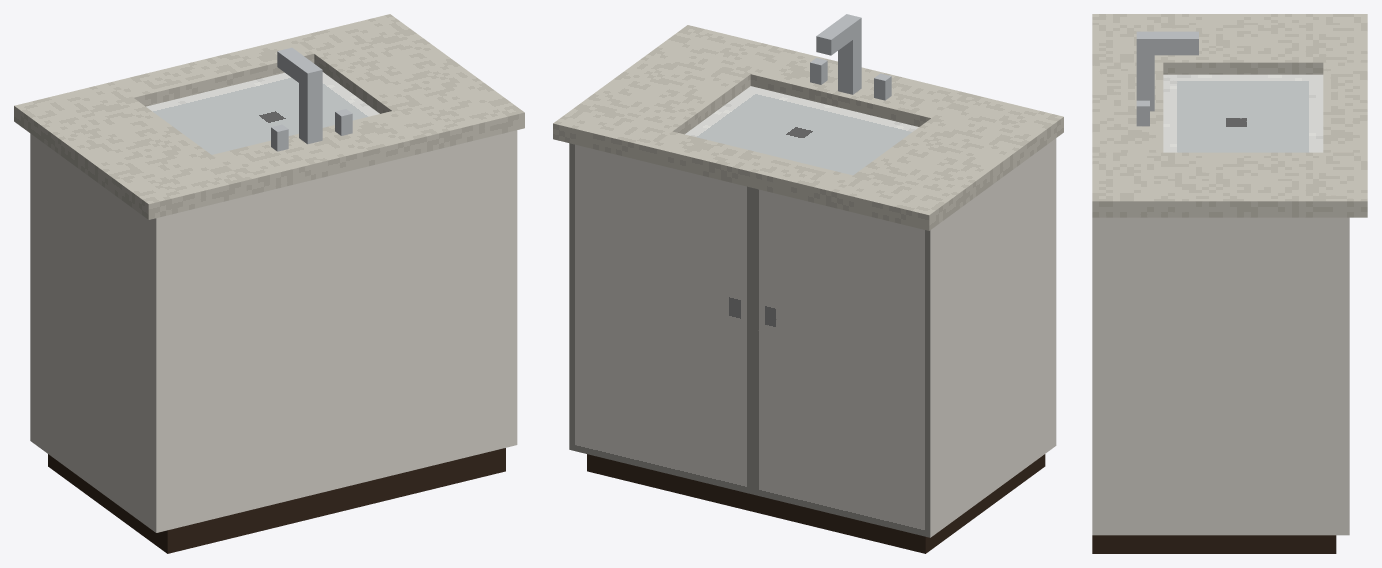
File: f_sink.glb
3 views of the same model, side by side, from view 1: azimuth 30°, elevation 25°; view 2: azimuth 150°, elevation 25°; view 3: azimuth 270°, elevation 25° (orthographic). The views are drawn at different scales.
Parts seen in each view (by area): view 1: block_cabinet, block_top-l, block_top-r, block_cabinet-plinth, block_basin, block_top-b, block_top-f, block_tap, block_spout; view 2: block_cabinet, block_top-l, block_top-r, block_basin, block_cabinet-plinth, block_top-b, block_top-f, block_tap, block_spout; view 3: block_cabinet, block_top-r, block_top-l, block_basin, block_top-b, block_cabinet-plinth, block_top-f, block_tap, block_spout, block_handle0.07.
Boxes of the visible parts, <box> form: block_cabinet: <box>30,130,517,532</box>; block_top-l: <box>14,82,246,219</box>; block_top-r: <box>293,14,524,151</box>; block_cabinet-plinth: <box>48,448,505,553</box>; block_basin: <box>146,72,379,154</box>; block_top-b: <box>212,111,426,195</box>; block_top-f: <box>112,38,314,106</box>; block_tap: <box>299,63,322,144</box>; block_spout: <box>277,47,322,88</box>; block_cabinet: <box>569,138,1056,537</box>; block_top-l: <box>831,93,1063,230</box>; block_top-r: <box>553,25,784,162</box>; block_basin: <box>685,86,918,175</box>; block_cabinet-plinth: <box>587,454,1045,553</box>; block_top-b: <box>750,49,965,126</box>; block_top-f: <box>651,131,852,206</box>; block_tap: <box>838,14,861,94</box>; block_spout: <box>816,14,861,55</box>; block_cabinet: <box>1092,217,1349,535</box>; block_top-r: <box>1092,152,1367,217</box>; block_top-l: <box>1092,14,1367,74</box>; block_basin: <box>1163,74,1323,152</box>; block_top-b: <box>1092,62,1163,152</box>; block_cabinet-plinth: <box>1092,535,1336,553</box>; block_top-f: <box>1323,62,1367,152</box>; block_tap: <box>1136,31,1154,111</box>; block_spout: <box>1136,31,1198,55</box>; block_handle0.07: <box>1136,100,1149,126</box>.
Bounding box in the file's own units: 1 × 1.08 × 0.62.
2 materials, 2 textured.
